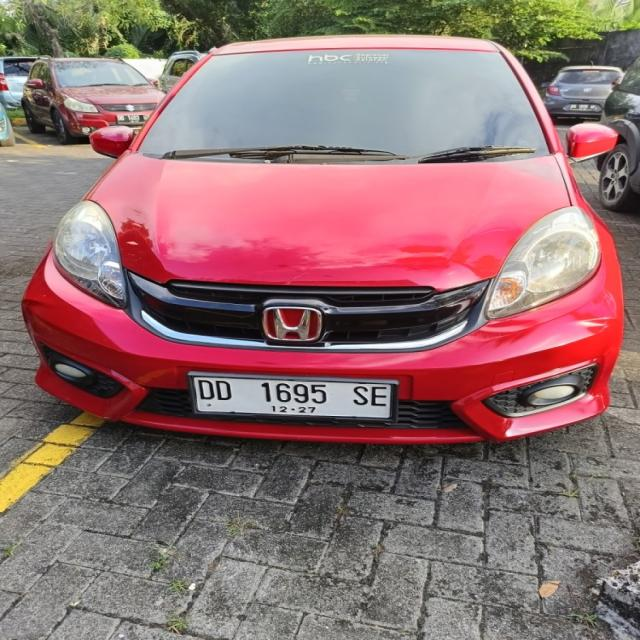plates: (188, 374, 394, 422)
